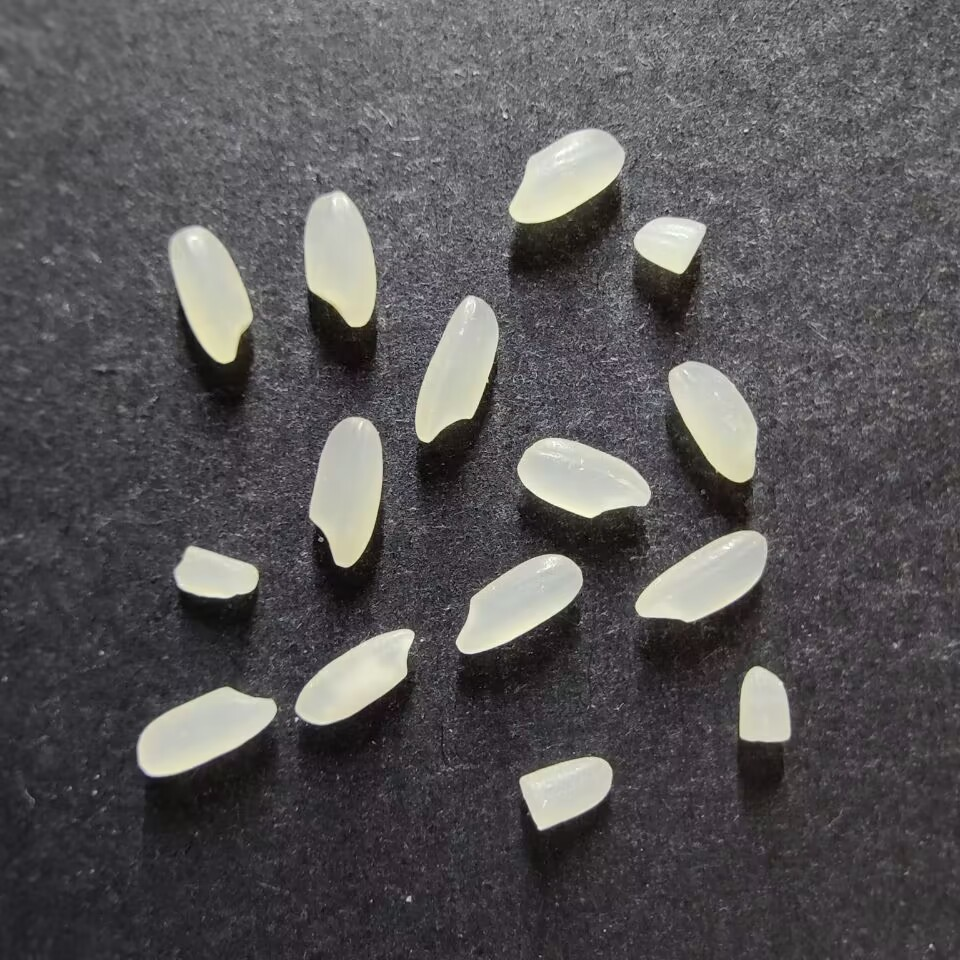broken: (518, 756, 613, 830), (173, 546, 259, 599), (633, 216, 708, 275), (738, 664, 791, 744)
rice: (136, 685, 277, 778), (455, 552, 583, 654), (414, 294, 500, 443), (634, 529, 768, 623), (167, 225, 254, 364), (293, 627, 416, 725), (308, 415, 384, 567), (508, 128, 625, 224), (667, 360, 758, 482), (517, 437, 651, 518), (303, 191, 377, 327)
